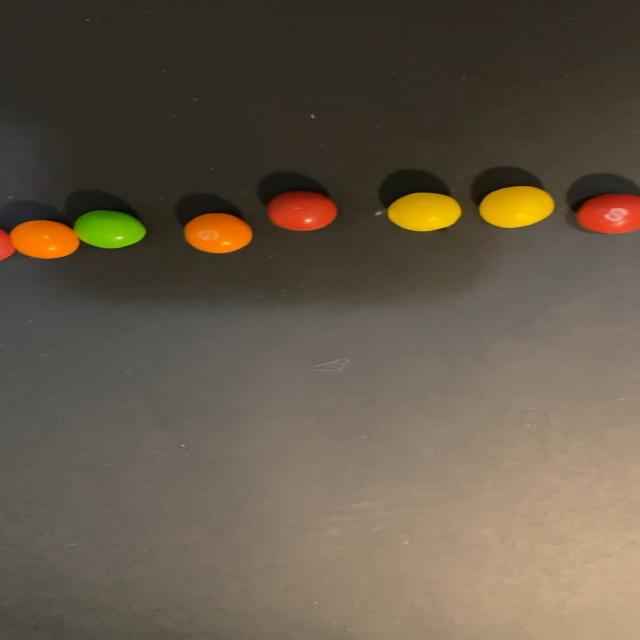smartie: (480, 186, 554, 227), (387, 192, 460, 231), (73, 210, 145, 248), (183, 213, 251, 253), (8, 220, 78, 258), (268, 191, 335, 230), (577, 193, 640, 233)
